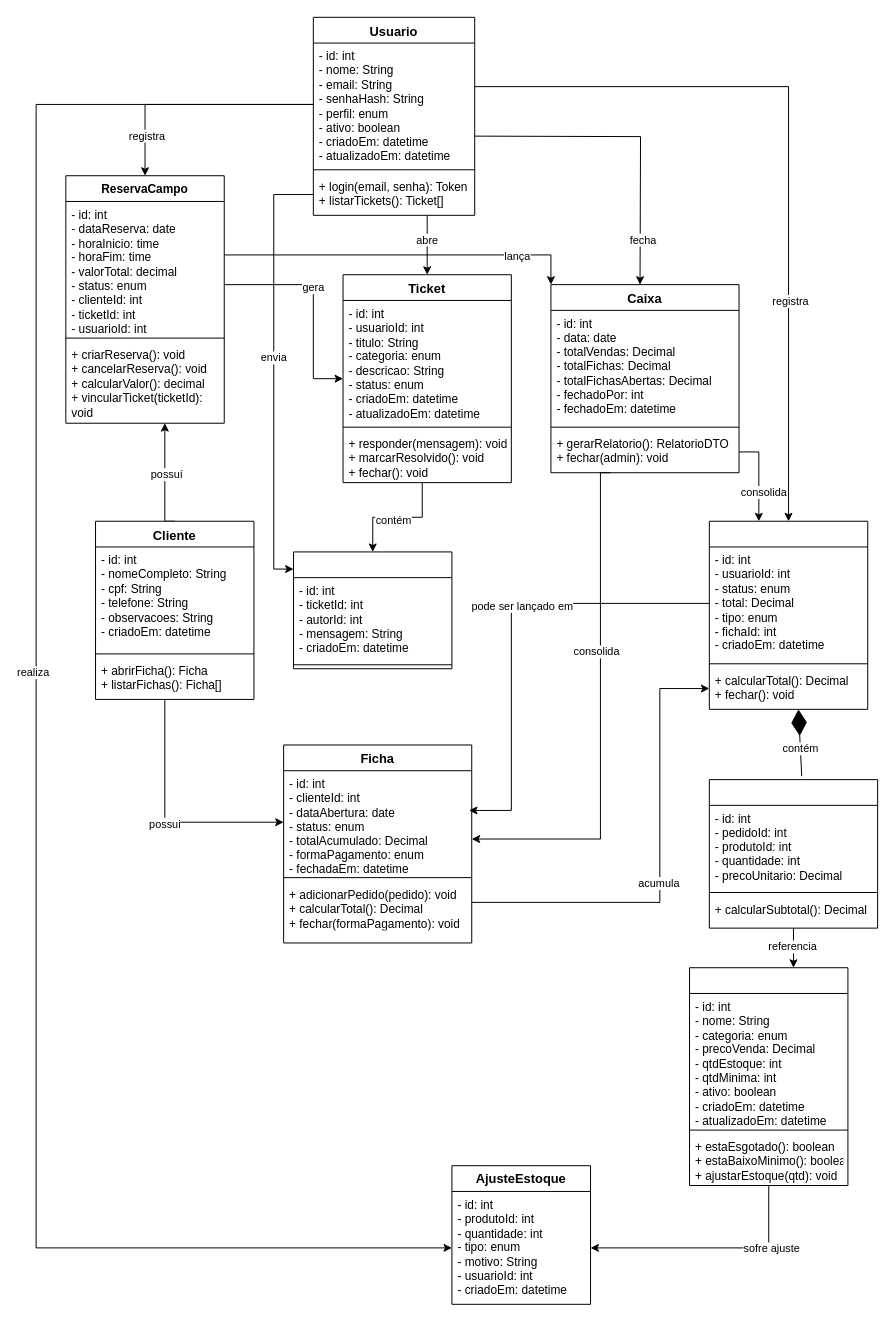
Image size: 895x1325. Some labels were removed from this diagram. Each missing label, with the box of its shape:
ItemPedido: (708, 779, 878, 928)
MensagemTicket: (293, 551, 452, 669)
Pedido: (708, 520, 868, 709)
Produto: (689, 967, 848, 1186)
